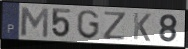5: (51, 7, 73, 39)
8: (158, 13, 178, 44)
G: (76, 9, 101, 41)
K: (132, 12, 152, 43)
M: (19, 5, 50, 39)
Z: (102, 10, 128, 42)
